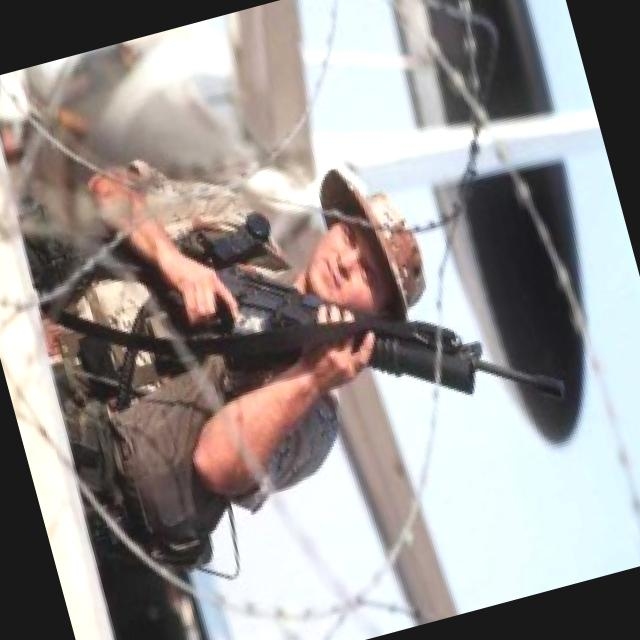long weapon: (146, 242, 571, 442)
